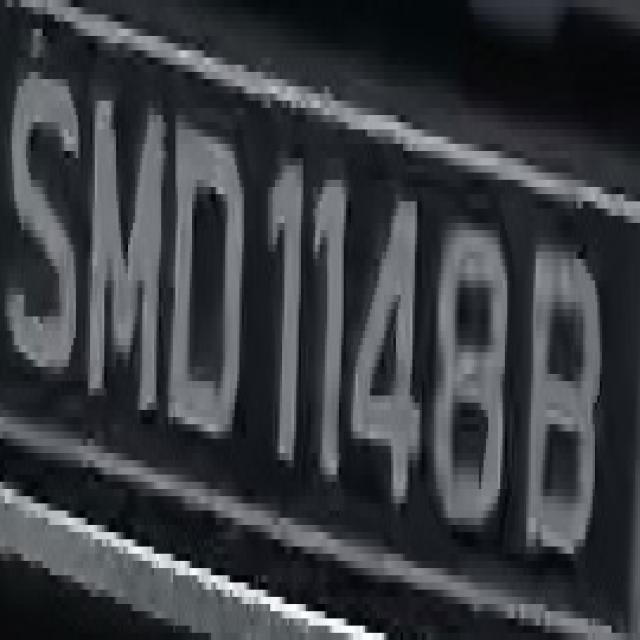1: (308, 144, 351, 546), (266, 151, 308, 496)
4: (354, 122, 432, 540)
8: (436, 180, 510, 575)
B: (524, 187, 607, 590)
D: (166, 72, 246, 489)
M: (85, 57, 168, 446)
S: (7, 43, 81, 403)
